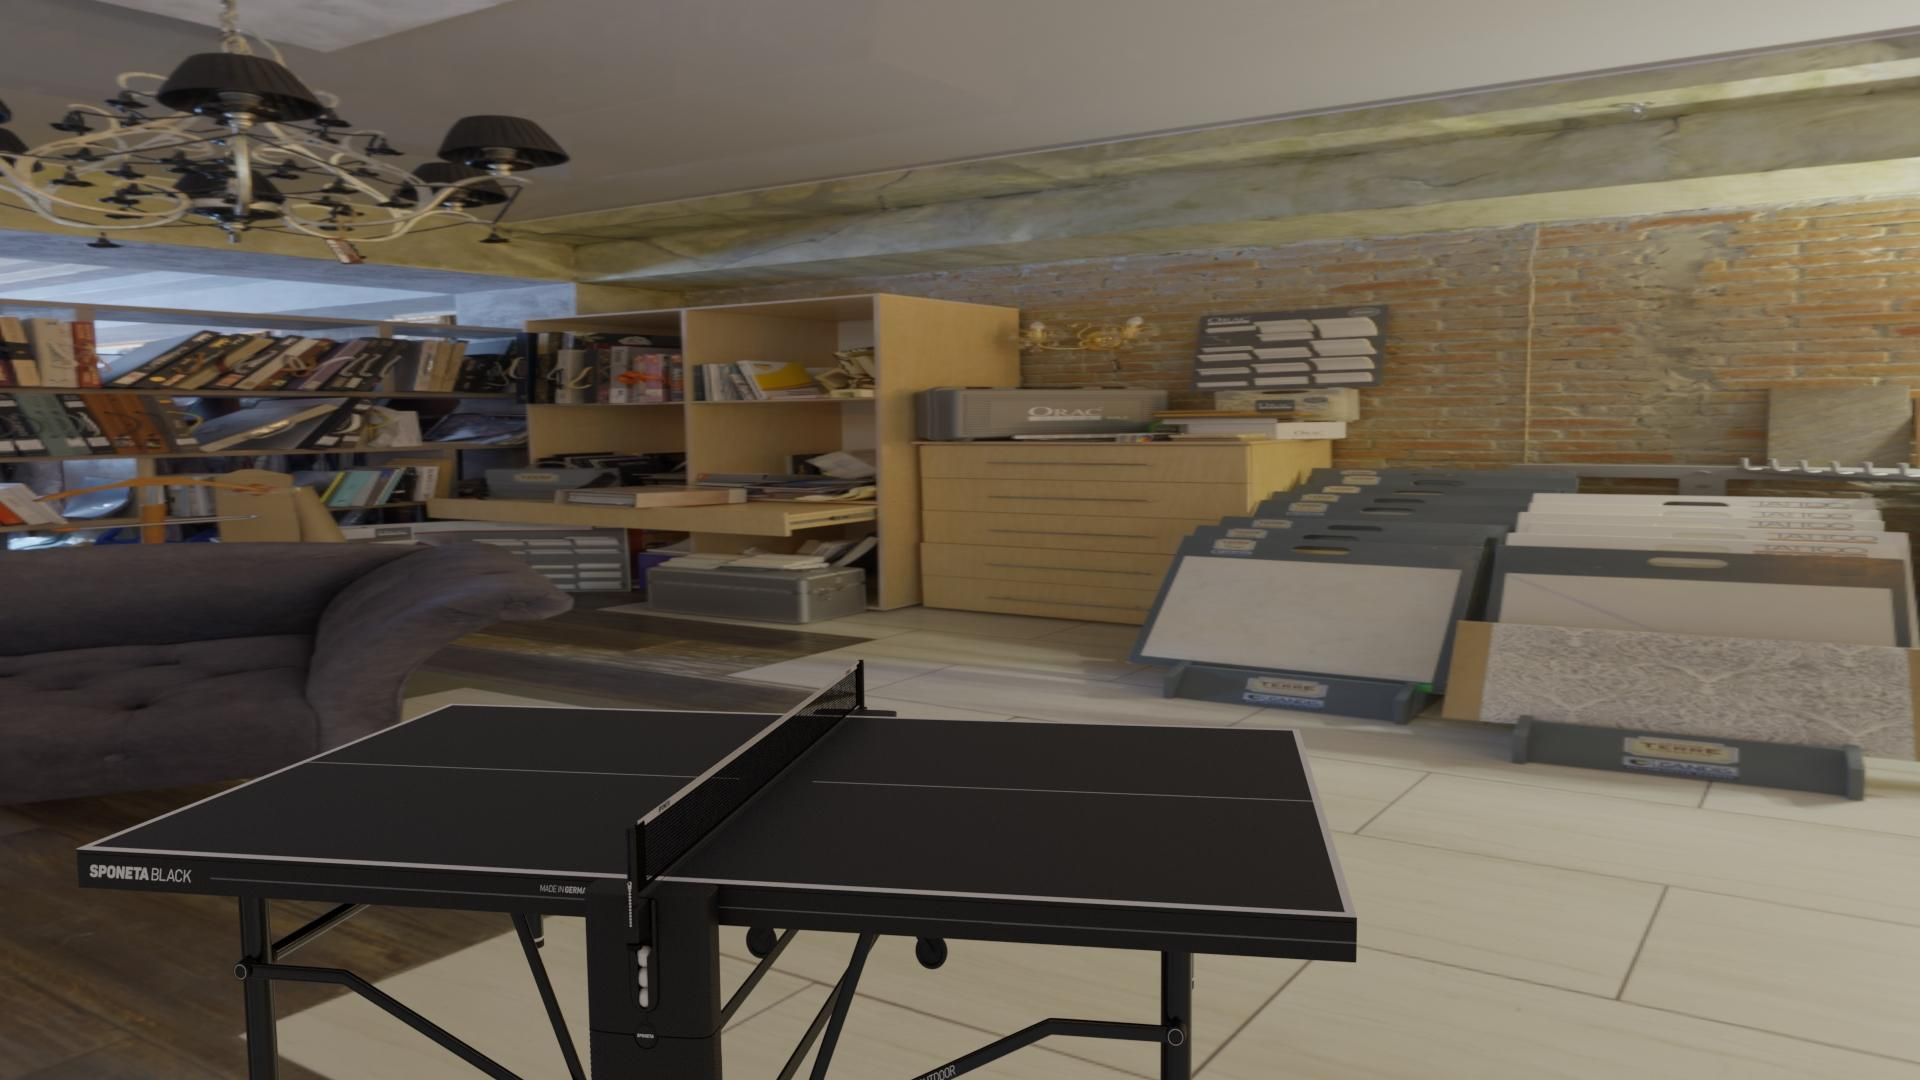table: (91, 705, 1345, 913)
